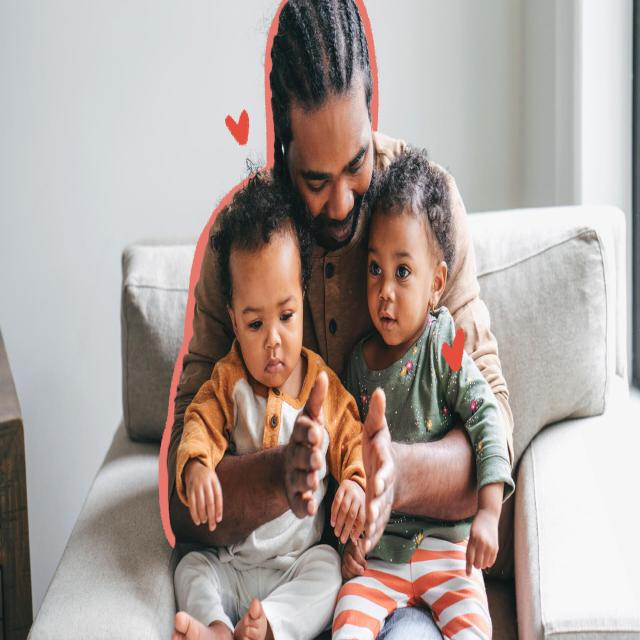sem_oculos: (358, 237, 444, 290), (296, 156, 371, 200), (237, 288, 300, 332)
